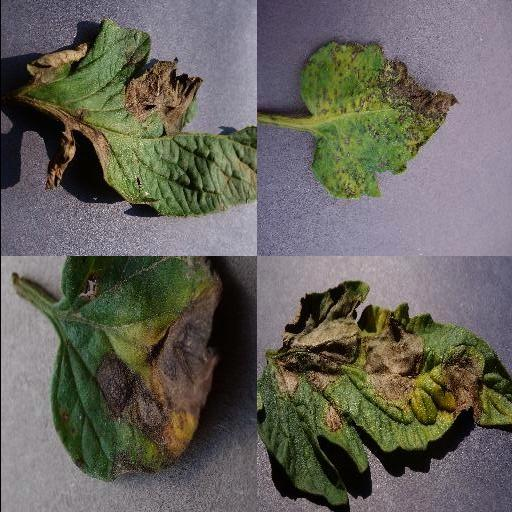Early Blight: (50, 257, 222, 483)
Late Blight: (256, 280, 512, 506), (23, 18, 256, 218)
Septoria: (300, 41, 458, 201)
